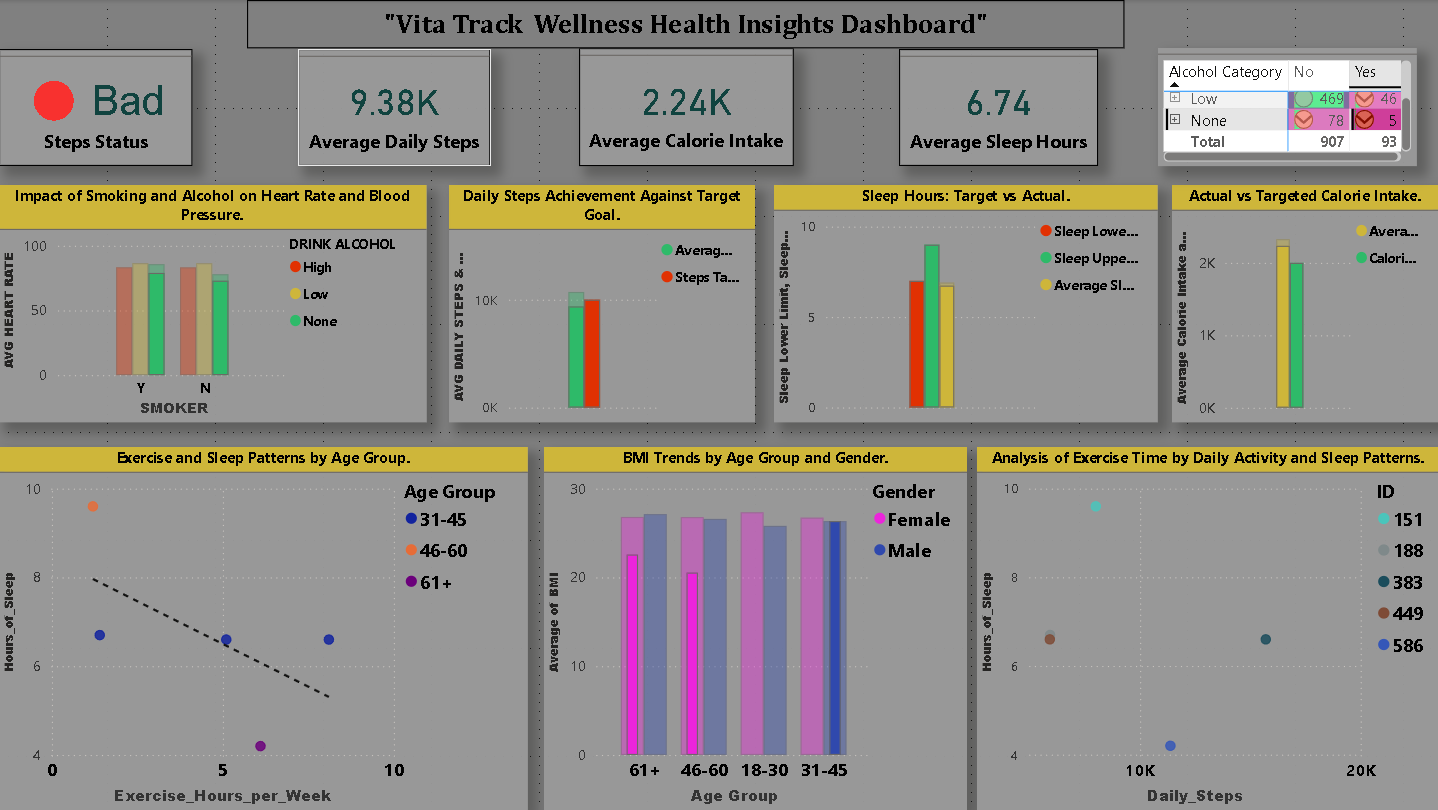

The dashboard page shown, as its layout file describes it:
{"tool":"powerbi","page":{"name":"dashboard","canvas":[1280,720],"ordinal":0},"visuals":[{"type":"card","fields":{"Values":["health_activity_data.Measure"]},"box":[266,43.4,171.1,103.7],"z":0},{"type":"card","fields":{"Values":["health_activity_data.Average Sleep Hours"]},"box":[799.8,43.4,177.3,103.7],"z":1000},{"type":"card","fields":{"Values":["health_activity_data.Average Calorie Intake"]},"box":[515.2,42.6,190.6,104.6],"z":2000},{"type":"card","fields":{"Values":["health_activity_data.Steps Status"]},"box":[0,43.4,172,103.7],"z":3000},{"type":"lineClusteredColumnComboChart","title":"Daily Steps Achievement Against Target Goal.","fields":{"Y":["health_activity_data.Average Daily Steps","health_activity_data.Steps Target"]},"box":[399.9,164,272.2,211],"z":4000},{"type":"lineClusteredColumnComboChart","title":"Sleep Hours: Target vs Actual.","fields":{"Y":["health_activity_data.Sleep Lower Limit","health_activity_data.Sleep Upper Limit","health_activity_data.Average Sleep Hours"]},"box":[689,164,341.4,211],"z":5000},{"type":"clusteredColumnChart","title":"Actual vs Targeted Calorie Intake.","fields":{"Y":["health_activity_data.Average Calorie Intake","health_activity_data.Calories Target"]},"box":[1042.8,164,236.7,211],"z":6000},{"type":"pivotTable","fields":{"Rows":["health_activity_data.Alcohol Category","health_activity_data.Smoker(1/0)","health_activity_data.BMI Category","health_activity_data.Exercise Category"],"Columns":["health_activity_data.Heart_Disease"],"Values":["CountNonNull(health_activity_data.Heart_Disease)"]},"box":[1030.2,42.7,227.6,104.9],"z":7000},{"type":"scatterChart","title":"Exercise and Sleep Patterns by Age Group.","fields":{"Y":["health_activity_data.Hours_of_Sleep"],"X":["health_activity_data.Exercise_Hours_per_Week"],"Series":["health_activity_data.Age Group"]},"box":[0,397.2,470,322.8],"z":8000},{"type":"lineClusteredColumnComboChart","title":"BMI Trends by Age Group and Gender.","fields":{"Category":["health_activity_data.Age Group"],"Series":["health_activity_data.Gender"],"Y":["Avg(health_activity_data.BMI)"]},"box":[484.1,397.2,376,322.8],"z":9000},{"type":"clusteredColumnChart","title":"Impact of Smoking and Alcohol on Heart Rate and Blood Pressure.","fields":{"Category":["health_activity_data.Smoker(Y/N)"],"Series":["health_activity_data.Alcohol Category"],"Y":["health_activity_data.Avg Heart Rate"]},"box":[0,164,379.5,211],"z":10000},{"type":"scatterChart","title":"Analysis of Exercise Time by Daily Activity and Sleep Patterns.","fields":{"Y":["health_activity_data.Hours_of_Sleep"],"X":["health_activity_data.Daily_Steps"],"Series":["health_activity_data.ID"]},"box":[869,397.2,411.4,322.8],"z":11000},{"type":"textbox","box":[220.8,0,780.3,42.6],"z":12000}]}

Visuals, with their boxes in screenshot pixels (x1, y1, x2, y2), scaled from the page's 1280x720 canvas onto the 1438x810 screenshot:
card - health_activity_data.Measure: [x1=299, y1=49, x2=491, y2=165]
card - health_activity_data.Average Sleep Hours: [x1=899, y1=49, x2=1098, y2=165]
card - health_activity_data.Average Calorie Intake: [x1=579, y1=48, x2=793, y2=166]
card - health_activity_data.Steps Status: [x1=0, y1=49, x2=193, y2=165]
"Daily Steps Achievement Against Target Goal." lineClusteredColumnComboChart: [x1=449, y1=184, x2=755, y2=422]
"Sleep Hours: Target vs Actual." lineClusteredColumnComboChart: [x1=774, y1=184, x2=1158, y2=422]
"Actual vs Targeted Calorie Intake." clusteredColumnChart: [x1=1172, y1=184, x2=1437, y2=422]
pivotTable - health_activity_data.Alcohol Category x health_activity_data.Smoker(1/0): [x1=1157, y1=48, x2=1413, y2=166]
"Exercise and Sleep Patterns by Age Group." scatterChart: [x1=0, y1=447, x2=528, y2=809]
"BMI Trends by Age Group and Gender." lineClusteredColumnComboChart: [x1=544, y1=447, x2=966, y2=809]
"Impact of Smoking and Alcohol on Heart Rate and Blood Pressure." clusteredColumnChart: [x1=0, y1=184, x2=426, y2=422]
"Analysis of Exercise Time by Daily Activity and Sleep Patterns." scatterChart: [x1=976, y1=447, x2=1437, y2=809]
textbox: [x1=248, y1=0, x2=1125, y2=48]
